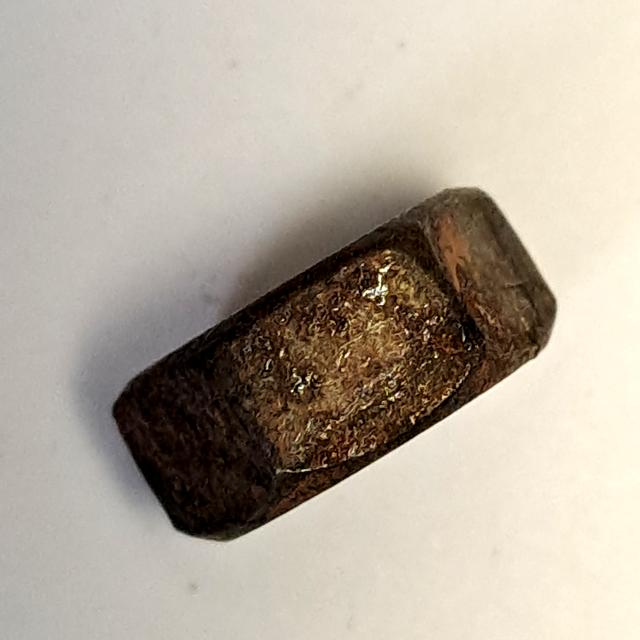Side_Rust: (105, 169, 571, 559)
